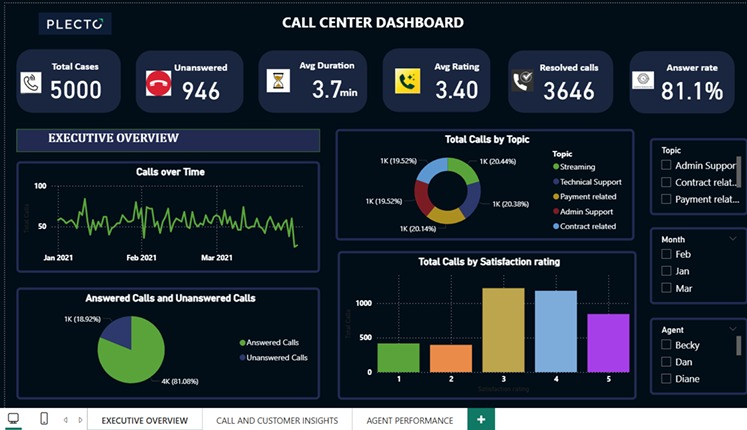

What the dashboard file says about the page in this screenshot:
{"tool":"powerbi","page":{"name":"EXECUTIVE OVERVIEW","canvas":[1280,720],"ordinal":0},"visuals":[{"type":"image","box":[48.9,10.7,139.5,47.7],"z":0},{"type":"shape","box":[19.1,77.5,177.6,108.5],"z":1000},{"type":"card","title":"Total Cases","fields":{"Values":["main.Total Calls"]},"box":[62,95.4,114.4,72.7],"z":2000},{"type":"image","box":[19.1,112.1,48.9,47.7],"z":3000},{"type":"shape","box":[854.7,79.9,178.8,106.1],"z":4000},{"type":"shape","box":[221.7,79.9,183.6,106.1],"z":5000},{"type":"shape","box":[430.3,79.9,184.8,106.1],"z":6000},{"type":"shape","box":[641.3,76.3,183.6,108.5],"z":7000},{"type":"card","title":"Unanswered","fields":{"Values":["main.Unanswered Calls"]},"box":[275.4,97.7,114.4,72.7],"z":8000},{"type":"card","title":"Avg Duration","fields":{"Values":["main.Avg Talk Duration"]},"box":[479.2,94.2,135.9,72.7],"z":9000},{"type":"card","title":"Avg Rating","fields":{"Values":["main.Avg Satisfaction"]},"box":[710.4,95.4,114.4,72.7],"z":10000},{"type":"textbox","box":[466.1,10.7,349.3,47.7],"z":11000},{"type":"image","box":[234.8,107.3,52.4,56],"z":12000},{"type":"image","box":[658,90.6,52.4,82.2],"z":13000},{"type":"image","box":[439.9,96.6,48.9,70.3],"z":14000},{"type":"card","title":"Resolved calls","fields":{"Values":["main.Resolved Calls"]},"box":[901.2,97.7,114.4,72.7],"z":15000},{"type":"shape","box":[1060.9,81.1,178.8,106.1],"z":16000},{"type":"card","title":"Answer rate","fields":{"Values":["main.Answer Rate"]},"box":[1095.5,97.7,144.2,72.7],"z":17000},{"type":"textbox","box":[563.8,134.7,51.3,34.6],"z":18000},{"type":"shape","box":[19.1,213.4,516.1,39.3],"z":19000},{"type":"textbox","box":[67.9,212.2,276.6,40.5],"z":20000},{"type":"lineChart","title":"Calls over Time","fields":{"Y":["main.Total Calls"],"Category":["DateTable.Date"]},"box":[19.1,268.2,516.1,189.5],"z":21000},{"type":"donutChart","fields":{"Category":["main.Topic"],"Y":["main.Total Calls"]},"box":[561.4,213.4,507.8,189.5],"z":22000},{"type":"pieChart","fields":{"Y":["main.Answered Calls","main.Unanswered Calls"]},"box":[19.1,482.8,516.1,190.7],"z":23000},{"type":"clusteredColumnChart","fields":{"Category":["main.Satisfaction rating"],"Y":["main.Total Calls"]},"box":[565,420.8,507.8,252.7],"z":24000},{"type":"slicer","fields":{"Values":["main.Topic"]},"box":[1095.5,228.9,166.9,131.1],"z":25000},{"type":"slicer","fields":{"Values":["DateTable.Month"]},"box":[1095.5,380.3,166.9,131.1],"z":26000},{"type":"slicer","fields":{"Values":["main.Agent"]},"box":[1095.5,534,166.9,131.1],"z":27000},{"type":"image","box":[1060.9,108.5,46.5,44.1],"z":27001},{"type":"image","box":[854.7,107.3,48.9,47.7],"z":27002}]}

Visuals, with their boxes in screenshot pixels (x1, y1, x2, y2), scaled from the page's 1280x720 canvas onto the 747x430 screenshot:
image: bbox(29, 6, 110, 35)
shape: bbox(11, 46, 115, 111)
"Total Cases" card: bbox(36, 57, 103, 100)
image: bbox(11, 67, 40, 95)
shape: bbox(499, 48, 603, 111)
shape: bbox(129, 48, 237, 111)
shape: bbox(251, 48, 359, 111)
shape: bbox(374, 46, 481, 110)
"Unanswered" card: bbox(161, 58, 227, 102)
"Avg Duration" card: bbox(280, 56, 359, 100)
"Avg Rating" card: bbox(415, 57, 481, 100)
textbox: bbox(272, 6, 476, 35)
image: bbox(137, 64, 168, 98)
image: bbox(384, 54, 415, 103)
image: bbox(257, 58, 285, 100)
"Resolved calls" card: bbox(526, 58, 593, 102)
shape: bbox(619, 48, 723, 112)
"Answer rate" card: bbox(639, 58, 723, 102)
textbox: bbox(329, 80, 359, 101)
shape: bbox(11, 127, 312, 151)
textbox: bbox(40, 127, 201, 151)
"Calls over Time" lineChart: bbox(11, 160, 312, 273)
donutChart - main.Topic x main.Total Calls: bbox(328, 127, 624, 241)
pieChart - main.Answered Calls x main.Unanswered Calls: bbox(11, 288, 312, 402)
clusteredColumnChart - main.Satisfaction rating x main.Total Calls: bbox(330, 251, 626, 402)
slicer - main.Topic: bbox(639, 137, 737, 215)
slicer - DateTable.Month: bbox(639, 227, 737, 305)
slicer - main.Agent: bbox(639, 319, 737, 397)
image: bbox(619, 65, 646, 91)
image: bbox(499, 64, 527, 93)
